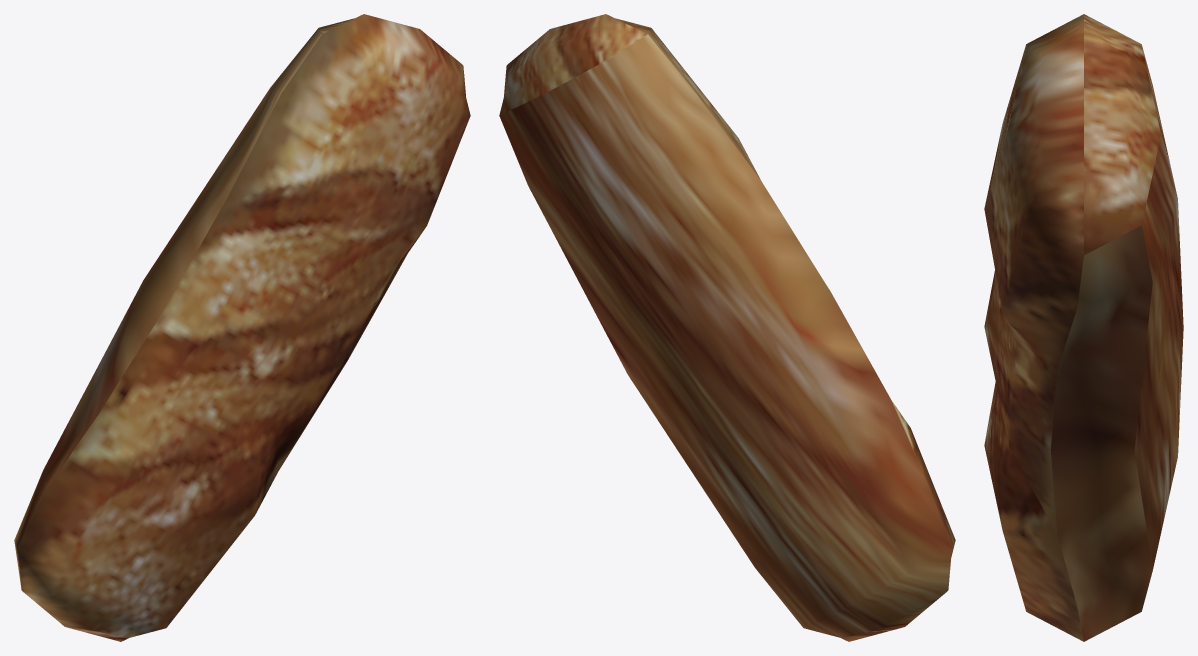
File: ItFo_Bread.fbx
3 views of the same model, side by side, from view 1: azimuth 30°, elevation 25°; view 2: azimuth 150°, elevation 25°; view 3: azimuth 270°, elevation 25° (orthographic). The views are drawn at different scales.
Visible parts, largest first — view 1: zenGin0; view 2: zenGin0; view 3: zenGin0.
Part boxes in pixels (x1=…): zenGin0: x1=14, y1=14, x2=470, y2=641; zenGin0: x1=499, y1=14, x2=955, y2=641; zenGin0: x1=984, y1=14, x2=1183, y2=641.
Size of the model in its own units: 52.08 by 62.99 by 15.
